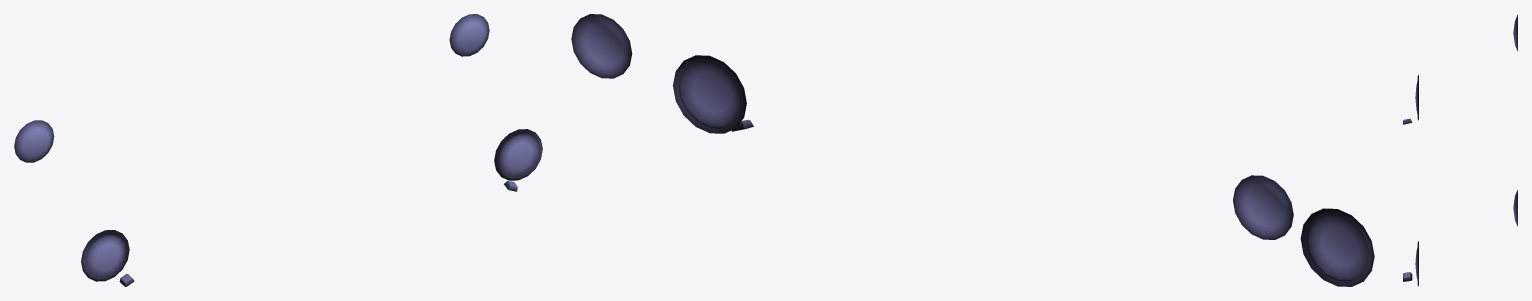
File: MC_XJ220s_HeadLights_detail.fbx
3 views of the same model, side by side, from view 1: azimuth 30°, elevation 25°; view 2: azimuth 150°, elevation 25°; view 3: azimuth 270°, elevation 25° (orthographic). The views are drawn at different scales.
Parts seen in each view (by area): view 1: MC_XJ220s_HeadLights_detail; view 2: MC_XJ220s_HeadLights_detail; view 3: MC_XJ220s_HeadLights_detail.
Boxes of the visible parts, x1,y1,x2,y2 form: MC_XJ220s_HeadLights_detail: (14, 14, 542, 286); MC_XJ220s_HeadLights_detail: (571, 14, 1374, 286); MC_XJ220s_HeadLights_detail: (1403, 14, 1517, 286).
Bounding box in the file's own units: 156 × 37.97 × 39.66.
